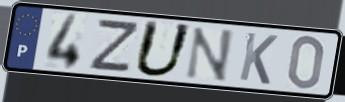0: (285, 34, 327, 92)
4: (43, 12, 83, 72)
K: (236, 30, 280, 87)
N: (183, 25, 237, 84)
U: (131, 18, 196, 80)
Z: (86, 19, 142, 75)
